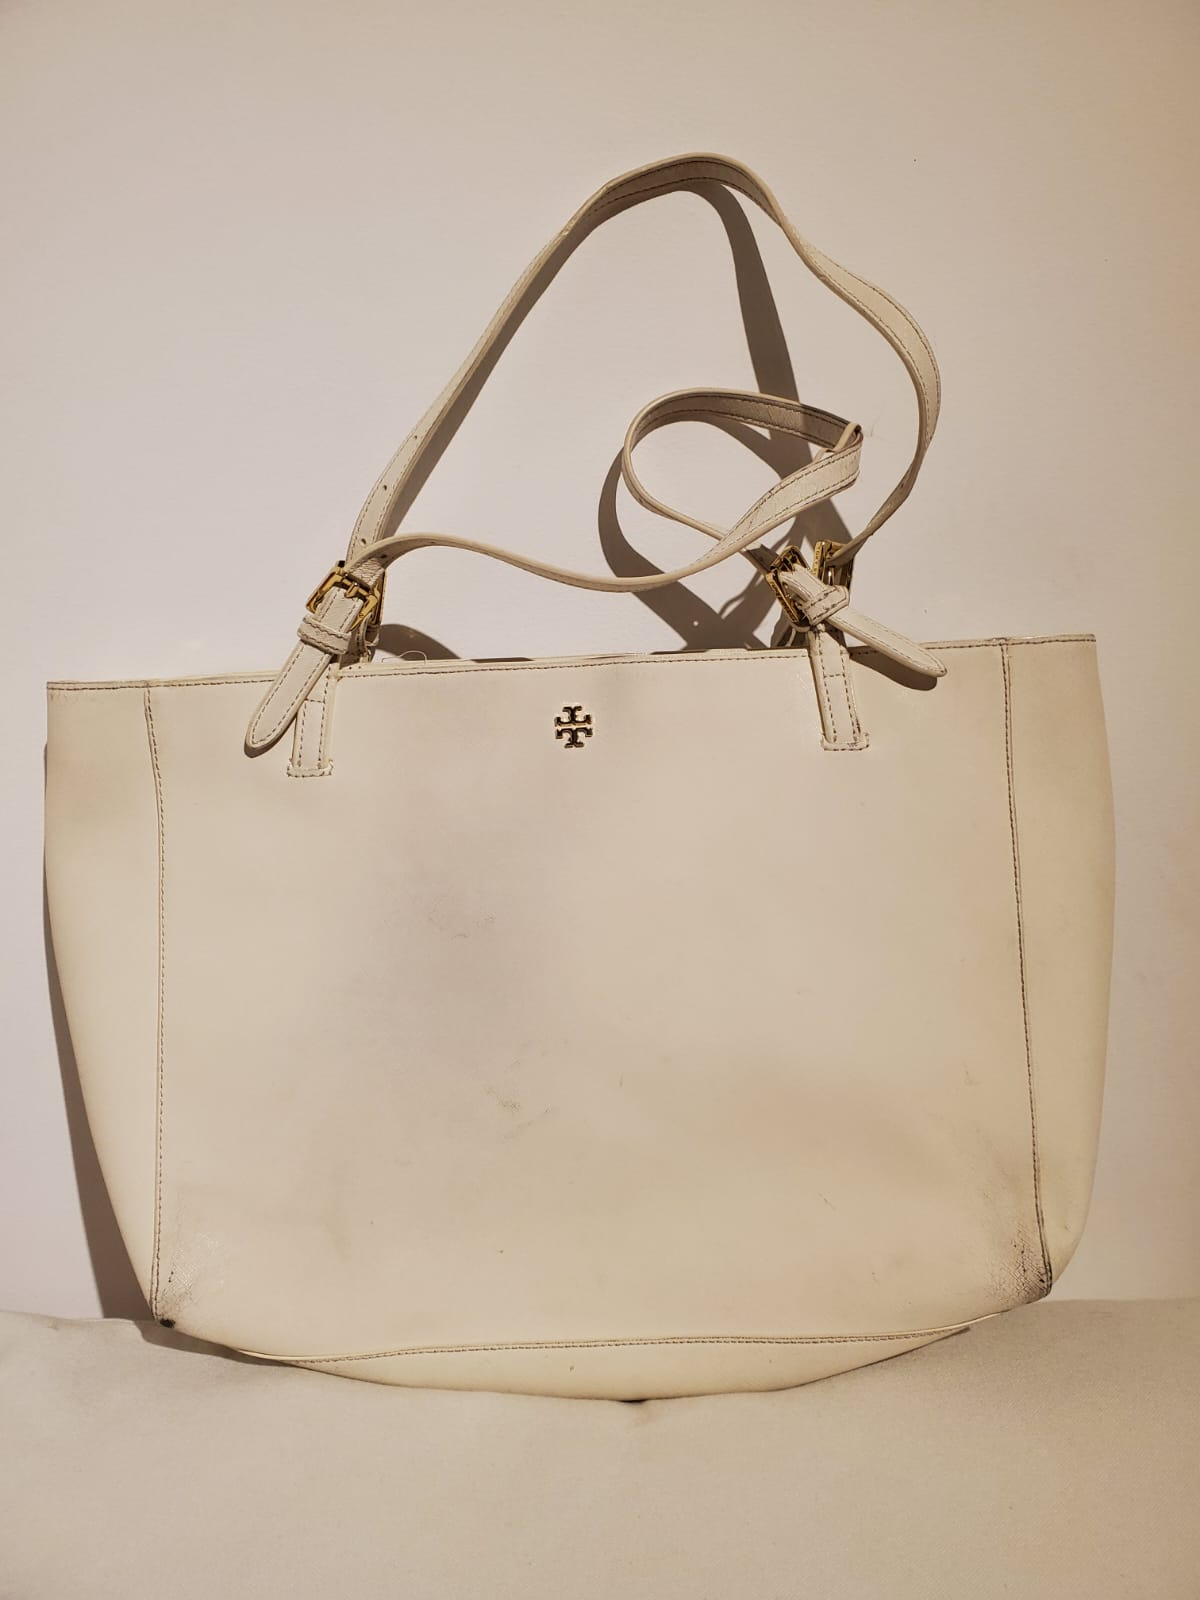cartera: (35, 144, 1156, 1443)
cuero: (149, 675, 1037, 1315)
